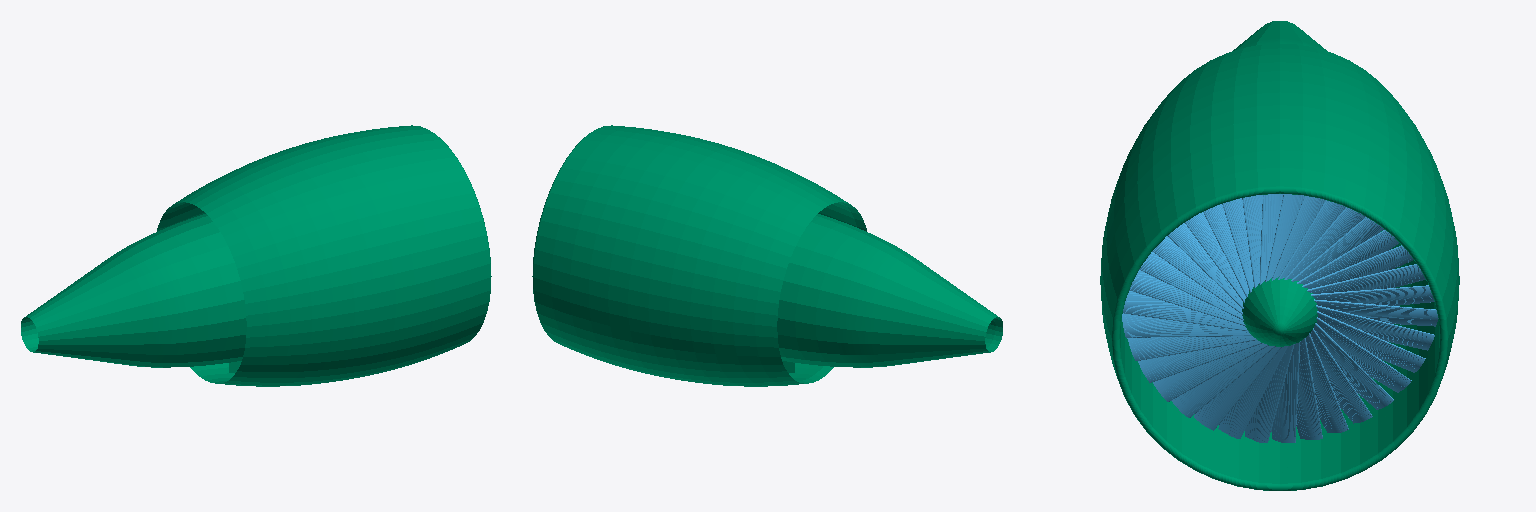
The robot description file, URDF, robot "partnet_1dd73a30ab73828f321a87fbc0155a59":
<?xml version="1.0" ?>
<robot name="partnet_1dd73a30ab73828f321a87fbc0155a59">
	<link name="base"/>
	<link name="link_0">
		<visual name="fan-1">
			<origin xyz="0 -0.001 0"/>
			<geometry>
				<mesh filename="textured_objs/original-32.obj"/>
			</geometry>
		</visual>
		<visual name="fan-1">
			<origin xyz="0 -0.001 0"/>
			<geometry>
				<mesh filename="textured_objs/original-35.obj"/>
			</geometry>
		</visual>
		<visual name="fan-1">
			<origin xyz="0 -0.001 0"/>
			<geometry>
				<mesh filename="textured_objs/original-34.obj"/>
			</geometry>
		</visual>
		<visual name="fan-1">
			<origin xyz="0 -0.001 0"/>
			<geometry>
				<mesh filename="textured_objs/original-33.obj"/>
			</geometry>
		</visual>
		<visual name="fan-1">
			<origin xyz="0 -0.001 0"/>
			<geometry>
				<mesh filename="textured_objs/original-2.obj"/>
			</geometry>
		</visual>
		<visual name="fan-1">
			<origin xyz="0 -0.001 0"/>
			<geometry>
				<mesh filename="textured_objs/original-9.obj"/>
			</geometry>
		</visual>
		<visual name="fan-1">
			<origin xyz="0 -0.001 0"/>
			<geometry>
				<mesh filename="textured_objs/original-11.obj"/>
			</geometry>
		</visual>
		<visual name="fan-1">
			<origin xyz="0 -0.001 0"/>
			<geometry>
				<mesh filename="textured_objs/original-15.obj"/>
			</geometry>
		</visual>
		<visual name="fan-1">
			<origin xyz="0 -0.001 0"/>
			<geometry>
				<mesh filename="textured_objs/original-16.obj"/>
			</geometry>
		</visual>
		<visual name="fan-1">
			<origin xyz="0 -0.001 0"/>
			<geometry>
				<mesh filename="textured_objs/original-19.obj"/>
			</geometry>
		</visual>
		<visual name="fan-1">
			<origin xyz="0 -0.001 0"/>
			<geometry>
				<mesh filename="textured_objs/original-21.obj"/>
			</geometry>
		</visual>
		<visual name="fan-1">
			<origin xyz="0 -0.001 0"/>
			<geometry>
				<mesh filename="textured_objs/original-22.obj"/>
			</geometry>
		</visual>
		<visual name="fan-1">
			<origin xyz="0 -0.001 0"/>
			<geometry>
				<mesh filename="textured_objs/original-26.obj"/>
			</geometry>
		</visual>
		<visual name="fan-1">
			<origin xyz="0 -0.001 0"/>
			<geometry>
				<mesh filename="textured_objs/original-27.obj"/>
			</geometry>
		</visual>
		<visual name="fan-1">
			<origin xyz="0 -0.001 0"/>
			<geometry>
				<mesh filename="textured_objs/original-6.obj"/>
			</geometry>
		</visual>
		<visual name="fan-1">
			<origin xyz="0 -0.001 0"/>
			<geometry>
				<mesh filename="textured_objs/original-7.obj"/>
			</geometry>
		</visual>
		<visual name="fan-1">
			<origin xyz="0 -0.001 0"/>
			<geometry>
				<mesh filename="textured_objs/original-8.obj"/>
			</geometry>
		</visual>
		<visual name="fan-1">
			<origin xyz="0 -0.001 0"/>
			<geometry>
				<mesh filename="textured_objs/original-10.obj"/>
			</geometry>
		</visual>
		<visual name="fan-1">
			<origin xyz="0 -0.001 0"/>
			<geometry>
				<mesh filename="textured_objs/original-12.obj"/>
			</geometry>
		</visual>
		<visual name="fan-1">
			<origin xyz="0 -0.001 0"/>
			<geometry>
				<mesh filename="textured_objs/original-13.obj"/>
			</geometry>
		</visual>
		<visual name="fan-1">
			<origin xyz="0 -0.001 0"/>
			<geometry>
				<mesh filename="textured_objs/original-14.obj"/>
			</geometry>
		</visual>
		<visual name="fan-1">
			<origin xyz="0 -0.001 0"/>
			<geometry>
				<mesh filename="textured_objs/original-18.obj"/>
			</geometry>
		</visual>
		<visual name="fan-1">
			<origin xyz="0 -0.001 0"/>
			<geometry>
				<mesh filename="textured_objs/original-24.obj"/>
			</geometry>
		</visual>
		<visual name="fan-1">
			<origin xyz="0 -0.001 0"/>
			<geometry>
				<mesh filename="textured_objs/original-17.obj"/>
			</geometry>
		</visual>
		<visual name="fan-1">
			<origin xyz="0 -0.001 0"/>
			<geometry>
				<mesh filename="textured_objs/original-20.obj"/>
			</geometry>
		</visual>
		<visual name="fan-1">
			<origin xyz="0 -0.001 0"/>
			<geometry>
				<mesh filename="textured_objs/original-23.obj"/>
			</geometry>
		</visual>
		<visual name="fan-1">
			<origin xyz="0 -0.001 0"/>
			<geometry>
				<mesh filename="textured_objs/original-30.obj"/>
			</geometry>
		</visual>
		<visual name="fan-1">
			<origin xyz="0 -0.001 0"/>
			<geometry>
				<mesh filename="textured_objs/original-25.obj"/>
			</geometry>
		</visual>
		<visual name="fan-1">
			<origin xyz="0 -0.001 0"/>
			<geometry>
				<mesh filename="textured_objs/original-29.obj"/>
			</geometry>
		</visual>
		<visual name="fan-1">
			<origin xyz="0 -0.001 0"/>
			<geometry>
				<mesh filename="textured_objs/original-28.obj"/>
			</geometry>
		</visual>
		<visual name="fan-1">
			<origin xyz="0 -0.001 0"/>
			<geometry>
				<mesh filename="textured_objs/original-36.obj"/>
			</geometry>
		</visual>
		<visual name="fan-1">
			<origin xyz="0 -0.001 0"/>
			<geometry>
				<mesh filename="textured_objs/original-31.obj"/>
			</geometry>
		</visual>
		<visual name="fan-1">
			<origin xyz="0 -0.001 0"/>
			<geometry>
				<mesh filename="textured_objs/original-1.obj"/>
			</geometry>
		</visual>
		<visual name="fan-1">
			<origin xyz="0 -0.001 0"/>
			<geometry>
				<mesh filename="textured_objs/original-3.obj"/>
			</geometry>
		</visual>
		<visual name="fan-1">
			<origin xyz="0 -0.001 0"/>
			<geometry>
				<mesh filename="textured_objs/original-4.obj"/>
			</geometry>
		</visual>
		<visual name="fan-1">
			<origin xyz="0 -0.001 0"/>
			<geometry>
				<mesh filename="textured_objs/original-5.obj"/>
			</geometry>
		</visual>
		<collision>
			<origin xyz="0 -0.001 0"/>
			<geometry>
				<mesh filename="textured_objs/original-32.obj"/>
			</geometry>
		</collision>
		<collision>
			<origin xyz="0 -0.001 0"/>
			<geometry>
				<mesh filename="textured_objs/original-35.obj"/>
			</geometry>
		</collision>
		<collision>
			<origin xyz="0 -0.001 0"/>
			<geometry>
				<mesh filename="textured_objs/original-34.obj"/>
			</geometry>
		</collision>
		<collision>
			<origin xyz="0 -0.001 0"/>
			<geometry>
				<mesh filename="textured_objs/original-33.obj"/>
			</geometry>
		</collision>
		<collision>
			<origin xyz="0 -0.001 0"/>
			<geometry>
				<mesh filename="textured_objs/original-2.obj"/>
			</geometry>
		</collision>
		<collision>
			<origin xyz="0 -0.001 0"/>
			<geometry>
				<mesh filename="textured_objs/original-9.obj"/>
			</geometry>
		</collision>
		<collision>
			<origin xyz="0 -0.001 0"/>
			<geometry>
				<mesh filename="textured_objs/original-11.obj"/>
			</geometry>
		</collision>
		<collision>
			<origin xyz="0 -0.001 0"/>
			<geometry>
				<mesh filename="textured_objs/original-15.obj"/>
			</geometry>
		</collision>
		<collision>
			<origin xyz="0 -0.001 0"/>
			<geometry>
				<mesh filename="textured_objs/original-16.obj"/>
			</geometry>
		</collision>
		<collision>
			<origin xyz="0 -0.001 0"/>
			<geometry>
				<mesh filename="textured_objs/original-19.obj"/>
			</geometry>
		</collision>
		<collision>
			<origin xyz="0 -0.001 0"/>
			<geometry>
				<mesh filename="textured_objs/original-21.obj"/>
			</geometry>
		</collision>
		<collision>
			<origin xyz="0 -0.001 0"/>
			<geometry>
				<mesh filename="textured_objs/original-22.obj"/>
			</geometry>
		</collision>
		<collision>
			<origin xyz="0 -0.001 0"/>
			<geometry>
				<mesh filename="textured_objs/original-26.obj"/>
			</geometry>
		</collision>
		<collision>
			<origin xyz="0 -0.001 0"/>
			<geometry>
				<mesh filename="textured_objs/original-27.obj"/>
			</geometry>
		</collision>
		<collision>
			<origin xyz="0 -0.001 0"/>
			<geometry>
				<mesh filename="textured_objs/original-6.obj"/>
			</geometry>
		</collision>
		<collision>
			<origin xyz="0 -0.001 0"/>
			<geometry>
				<mesh filename="textured_objs/original-7.obj"/>
			</geometry>
		</collision>
		<collision>
			<origin xyz="0 -0.001 0"/>
			<geometry>
				<mesh filename="textured_objs/original-8.obj"/>
			</geometry>
		</collision>
		<collision>
			<origin xyz="0 -0.001 0"/>
			<geometry>
				<mesh filename="textured_objs/original-10.obj"/>
			</geometry>
		</collision>
		<collision>
			<origin xyz="0 -0.001 0"/>
			<geometry>
				<mesh filename="textured_objs/original-12.obj"/>
			</geometry>
		</collision>
		<collision>
			<origin xyz="0 -0.001 0"/>
			<geometry>
				<mesh filename="textured_objs/original-13.obj"/>
			</geometry>
		</collision>
		<collision>
			<origin xyz="0 -0.001 0"/>
			<geometry>
				<mesh filename="textured_objs/original-14.obj"/>
			</geometry>
		</collision>
		<collision>
			<origin xyz="0 -0.001 0"/>
			<geometry>
				<mesh filename="textured_objs/original-18.obj"/>
			</geometry>
		</collision>
		<collision>
			<origin xyz="0 -0.001 0"/>
			<geometry>
				<mesh filename="textured_objs/original-24.obj"/>
			</geometry>
		</collision>
		<collision>
			<origin xyz="0 -0.001 0"/>
			<geometry>
				<mesh filename="textured_objs/original-17.obj"/>
			</geometry>
		</collision>
		<collision>
			<origin xyz="0 -0.001 0"/>
			<geometry>
				<mesh filename="textured_objs/original-20.obj"/>
			</geometry>
		</collision>
		<collision>
			<origin xyz="0 -0.001 0"/>
			<geometry>
				<mesh filename="textured_objs/original-23.obj"/>
			</geometry>
		</collision>
		<collision>
			<origin xyz="0 -0.001 0"/>
			<geometry>
				<mesh filename="textured_objs/original-30.obj"/>
			</geometry>
		</collision>
		<collision>
			<origin xyz="0 -0.001 0"/>
			<geometry>
				<mesh filename="textured_objs/original-25.obj"/>
			</geometry>
		</collision>
		<collision>
			<origin xyz="0 -0.001 0"/>
			<geometry>
				<mesh filename="textured_objs/original-29.obj"/>
			</geometry>
		</collision>
		<collision>
			<origin xyz="0 -0.001 0"/>
			<geometry>
				<mesh filename="textured_objs/original-28.obj"/>
			</geometry>
		</collision>
		<collision>
			<origin xyz="0 -0.001 0"/>
			<geometry>
				<mesh filename="textured_objs/original-36.obj"/>
			</geometry>
		</collision>
		<collision>
			<origin xyz="0 -0.001 0"/>
			<geometry>
				<mesh filename="textured_objs/original-31.obj"/>
			</geometry>
		</collision>
		<collision>
			<origin xyz="0 -0.001 0"/>
			<geometry>
				<mesh filename="textured_objs/original-1.obj"/>
			</geometry>
		</collision>
		<collision>
			<origin xyz="0 -0.001 0"/>
			<geometry>
				<mesh filename="textured_objs/original-3.obj"/>
			</geometry>
		</collision>
		<collision>
			<origin xyz="0 -0.001 0"/>
			<geometry>
				<mesh filename="textured_objs/original-4.obj"/>
			</geometry>
		</collision>
		<collision>
			<origin xyz="0 -0.001 0"/>
			<geometry>
				<mesh filename="textured_objs/original-5.obj"/>
			</geometry>
		</collision>
	</link>
	<joint name="joint_0" type="continuous">
		<origin xyz="0 0.001 0"/>
		<axis xyz="0 0 1"/>
		<child link="link_0"/>
		<parent link="link_1"/>
	</joint>
	<link name="link_1">
		<visual name="base_body-2">
			<origin xyz="0 0 0"/>
			<geometry>
				<mesh filename="textured_objs/original-37.obj"/>
			</geometry>
		</visual>
		<collision>
			<origin xyz="0 0 0"/>
			<geometry>
				<mesh filename="textured_objs/original-37.obj"/>
			</geometry>
		</collision>
	</link>
	<joint name="joint_1" type="fixed">
		<origin rpy="1.570796326794897 0 -1.570796326794897" xyz="0 0 0"/>
		<child link="link_1"/>
		<parent link="base"/>
	</joint>
</robot>

--- What the picture shows (computed from the rendered views, not written in the file) ---
Views: 3 orthographic renders of the robot side by side, from view 1: azimuth 30°, elevation 25°; view 2: azimuth 150°, elevation 25°; view 3: azimuth 270°, elevation 25°.
Model partnet_1dd73a30ab73828f321a87fbc0155a59 with 3 links and 2 joints (1 continuous, 1 fixed), rooted at base, posed every joint at zero.
Visible links, largest first — view 1: link_1; view 2: link_1; view 3: link_1, link_0.
Boxes of the visible links, <box> form: link_1: <box>21,125,491,386</box>; link_1: <box>532,125,1002,386</box>; link_1: <box>1100,21,1459,490</box>; link_0: <box>1122,194,1438,442</box>.
Size in the robot's own frame: 1.55 by 0.7968 by 0.7968 metres.
Meshes: 37 distinct files referenced, 37 mesh visuals loaded (37 OBJ).